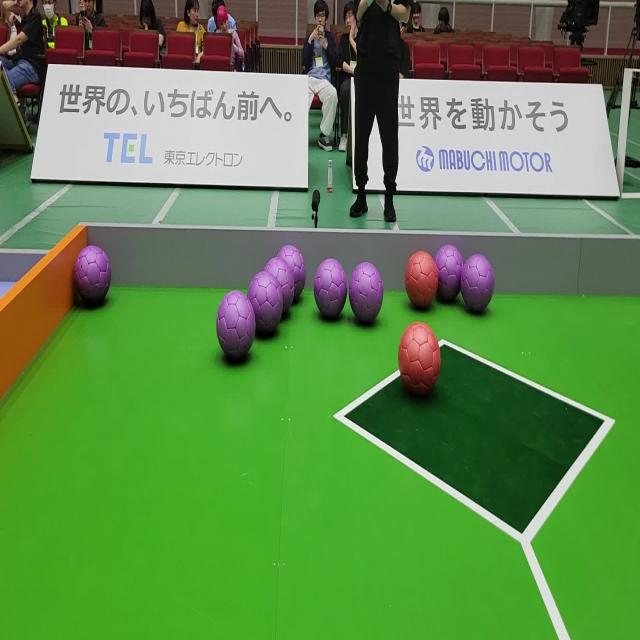purple_ball: (216, 290, 256, 364), (74, 244, 113, 308), (247, 273, 283, 341), (349, 264, 385, 324), (462, 253, 495, 317), (314, 258, 347, 320), (435, 243, 464, 304), (265, 257, 294, 318), (276, 250, 306, 302)
red_ball: (397, 320, 442, 398), (406, 251, 436, 310)
